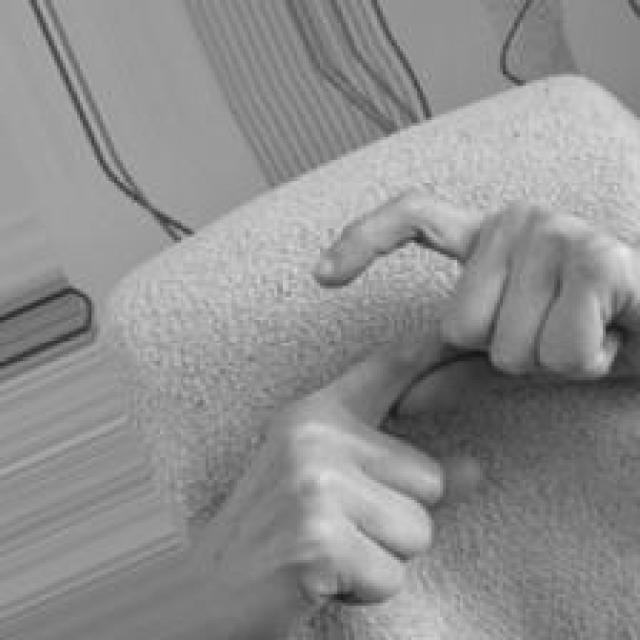S: (252, 180, 640, 640)
